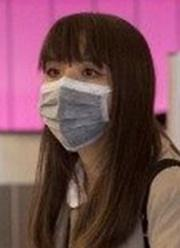OK: (40, 52, 116, 149)
